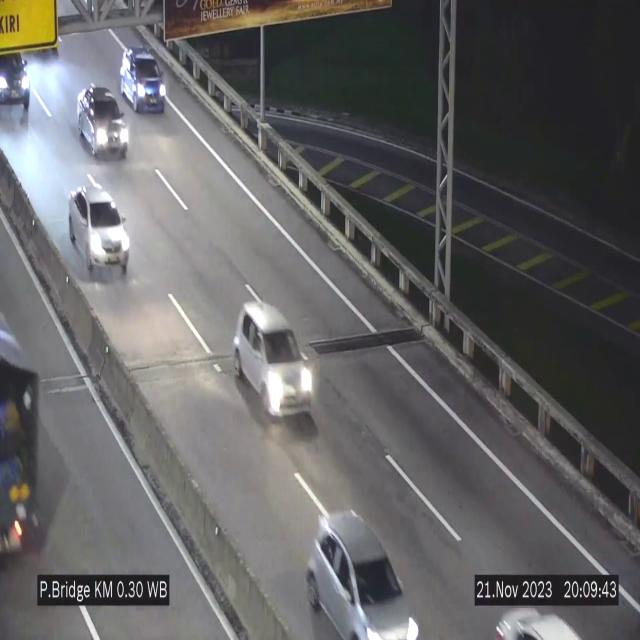Car: (306, 507, 422, 640), (233, 302, 317, 417), (68, 180, 130, 277), (78, 85, 128, 158), (0, 38, 37, 126), (119, 47, 166, 113)
Truck: (0, 293, 49, 578)
